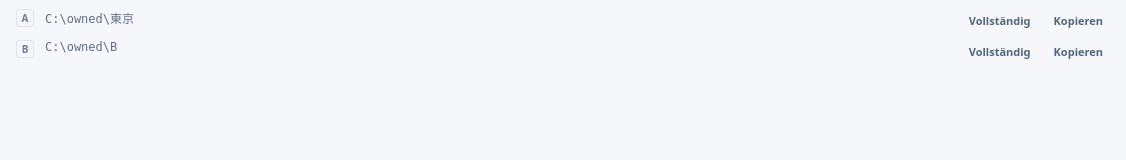
Test: failed clipboard access exposes a selectable full path and never reports success
Click the button with aria-label "Pfad von Ordner A kopieren": (1078, 21) [1048, 9, 1109, 33]
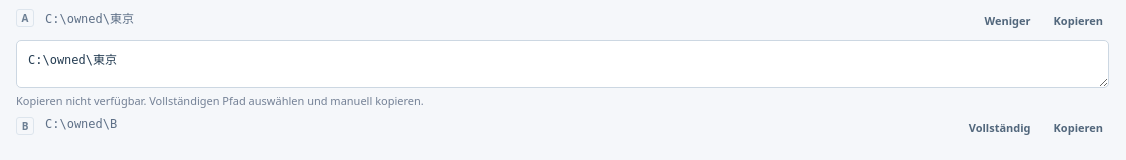
Now the text box named "Vollständiger Pfad von Ordner A" holds "C:\\owned\\東京", box [16, 40, 1109, 88]
Now the message shows "manuell kopieren", box [16, 93, 424, 108]
Click the button with aria-label "Pfad von Ordner A einklappen": (1008, 21) [979, 9, 1037, 33]
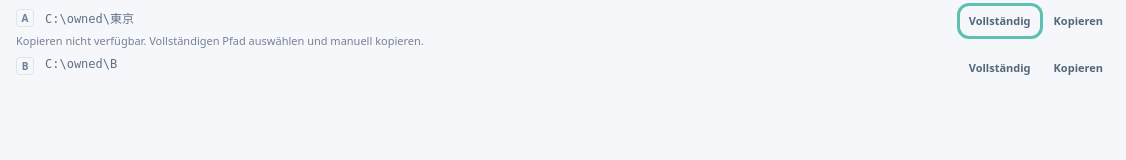
Click the button with aria-label "Pfad von Ordner B aufklappen": (1000, 68) [963, 56, 1036, 80]
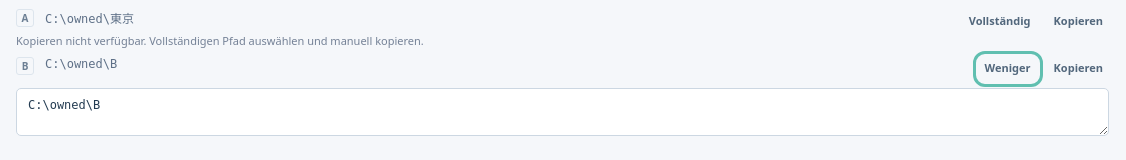
Now the text box named "Vollständiger Pfad von Ordner B" holds "C:\\owned\\B", box [16, 88, 1109, 136]
